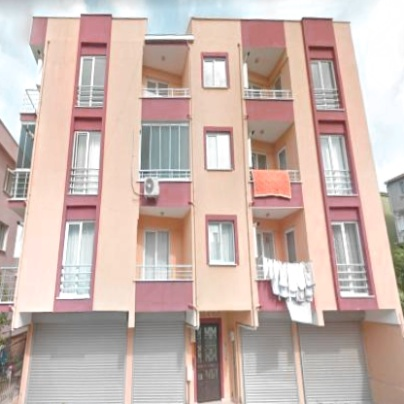door: (196, 323, 221, 403), (284, 227, 297, 262), (277, 145, 287, 170), (273, 72, 282, 90)
